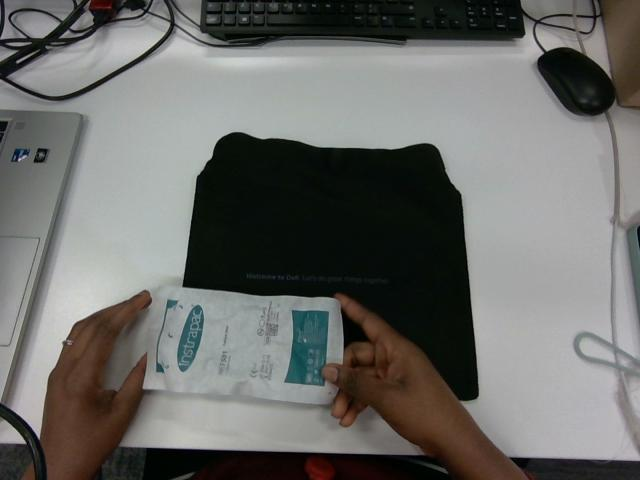gallipot: (144, 287, 343, 403)
